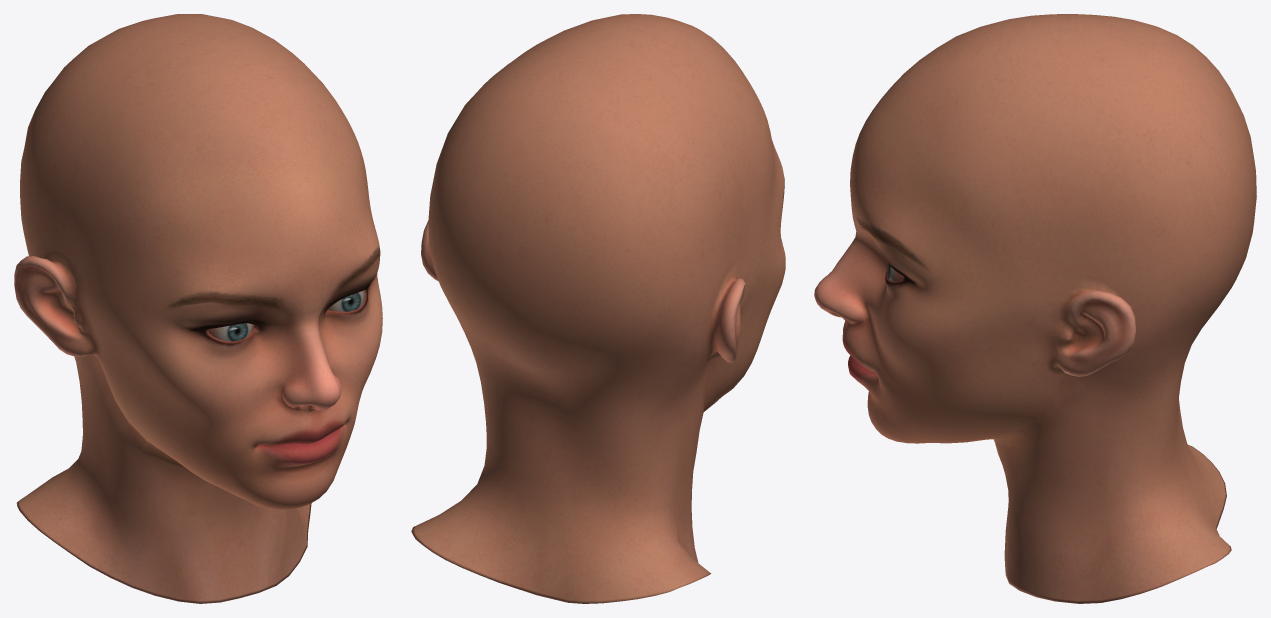
File: female_head.glb
3 views of the same model, side by side, from view 1: azimuth 30°, elevation 25°; view 2: azimuth 150°, elevation 25°; view 3: azimuth 270°, elevation 25° (orthographic).
Parts seen in each view (by area): view 1: head, eyes; view 2: head; view 3: head.
Boxes of the visible parts, x1,y1,x2,y2 form: head: (14, 14, 382, 603); eyes: (208, 290, 365, 341); head: (411, 14, 785, 603); head: (814, 14, 1256, 603).
Size of the model in its own units: 0.1765 by 0.2893 by 0.2162.
2 materials, 2 textured.
